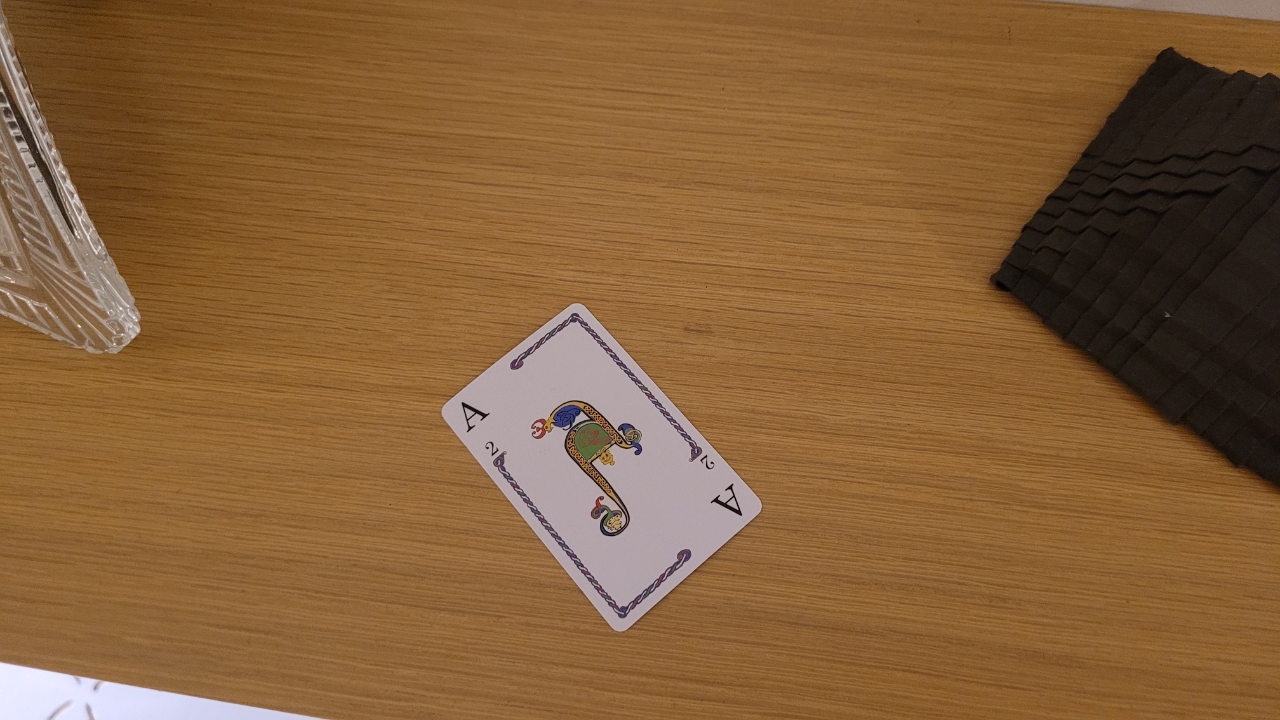quiddler_card: (428, 293, 771, 639)
